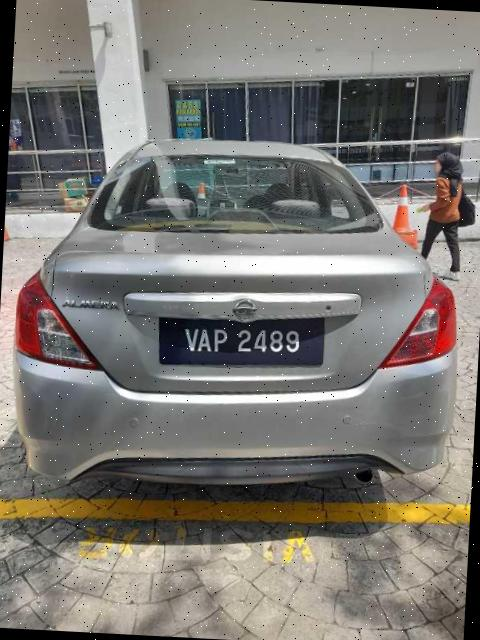License_Plate: (157, 308, 328, 374)
car: (7, 127, 471, 503)
